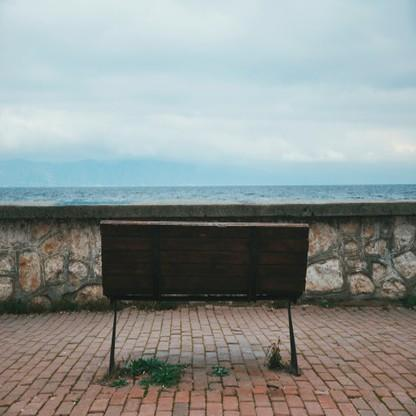obstacle: (82, 200, 323, 389)
